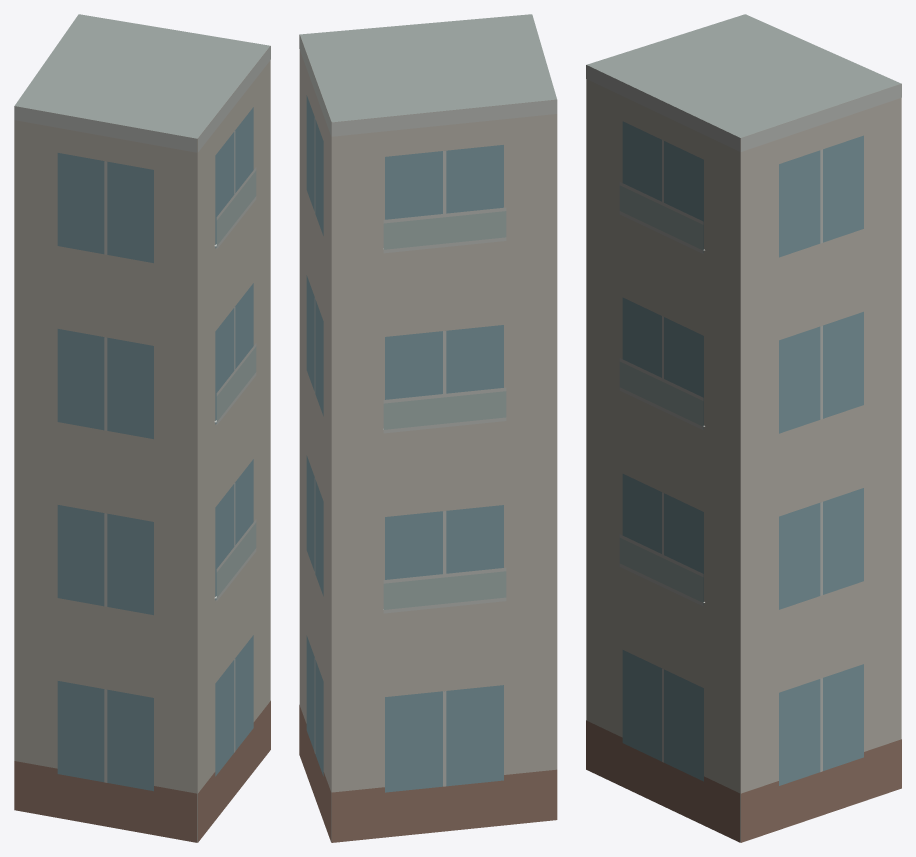
File: survey-upis-32758759.glb
3 views of the same model, side by side, from view 1: azimuth 30°, elevation 25°; view 2: azimuth 150°, elevation 25°; view 3: azimuth 270°, elevation 25° (orthographic). The views are drawn at different scales.
Visible parts, largest first — view 1: survey-upis-32758759.tmp; view 2: survey-upis-32758759.tmp; view 3: survey-upis-32758759.tmp.
Part boxes in pixels (x1,y1,x2,y2): survey-upis-32758759.tmp: [14, 14, 270, 842]; survey-upis-32758759.tmp: [299, 14, 557, 842]; survey-upis-32758759.tmp: [586, 14, 901, 842].
Bounding box in the file's own units: 4.61 × 12.2 × 4.95.
